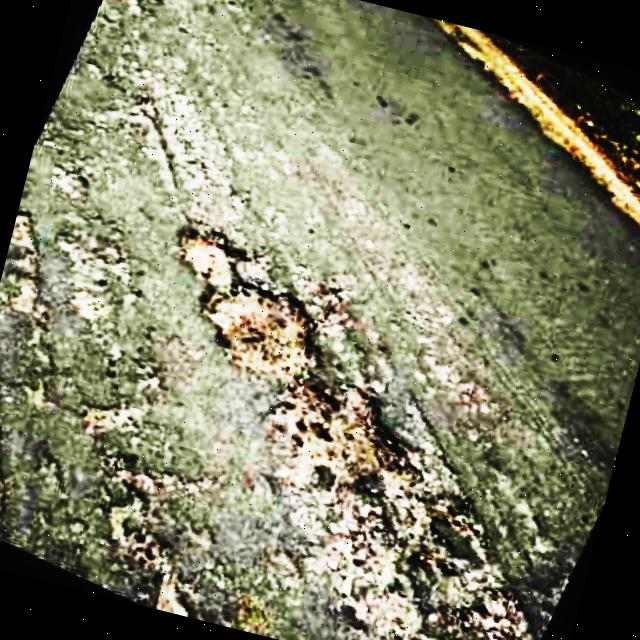pothole: (300, 463, 557, 640), (151, 215, 340, 386), (253, 362, 436, 514), (86, 477, 228, 620), (0, 208, 59, 310)
